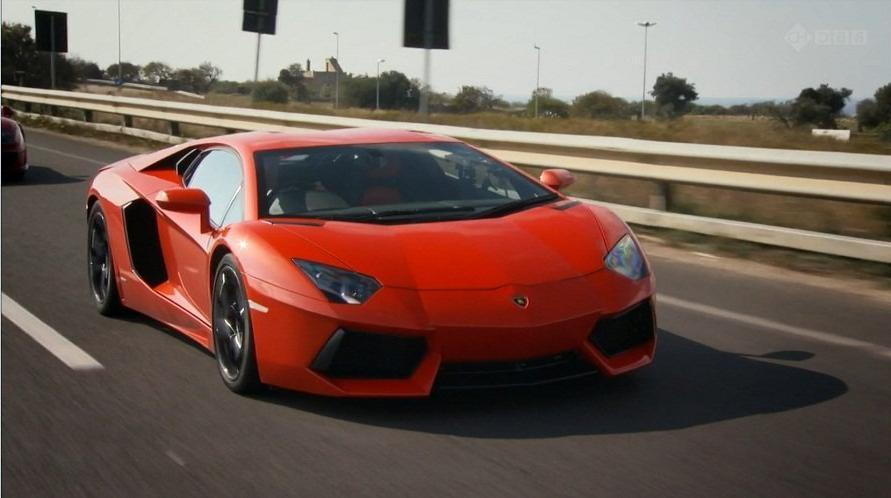Car: (74, 103, 685, 440)
